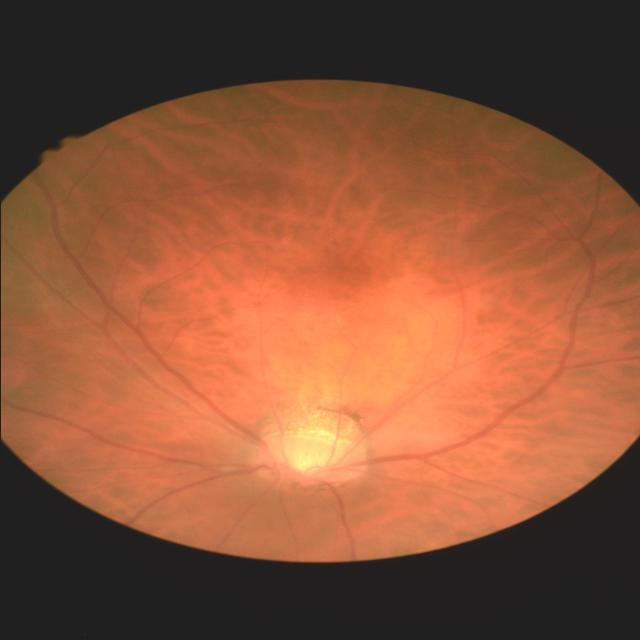cup: (268, 437, 356, 477)
disk: (252, 428, 366, 488)
